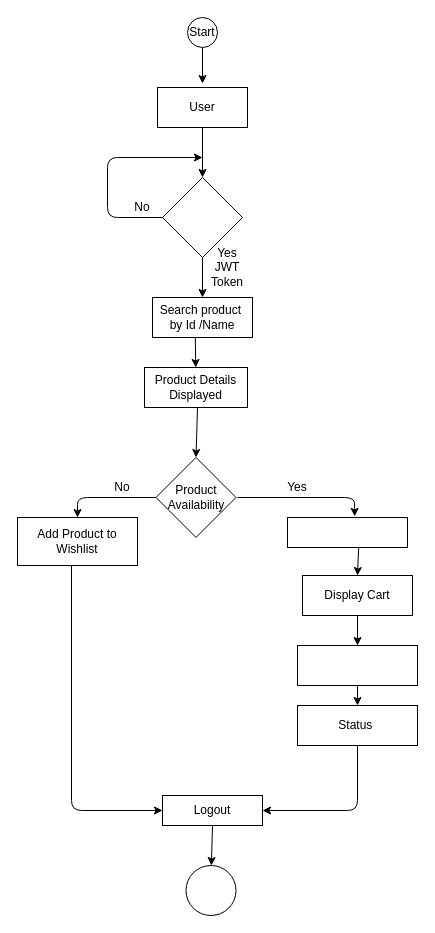
Some shapes in this 435 by 933 pixel diagram are drawn without their labels. Each missing label, with the box of its shape:
Add Product to Cart: (286, 516, 408, 548)
Login: (162, 176, 242, 258)
Rate the Product: (296, 644, 418, 686)
Stop: (185, 864, 236, 916)
